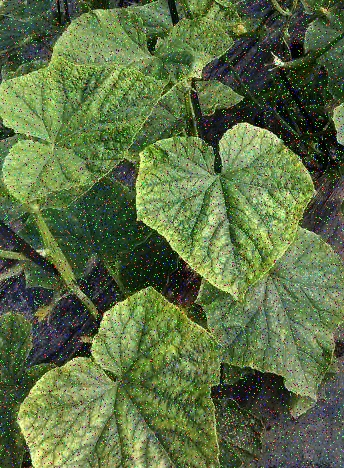cucumber_plant: (9, 45, 301, 286), (28, 288, 217, 468)
